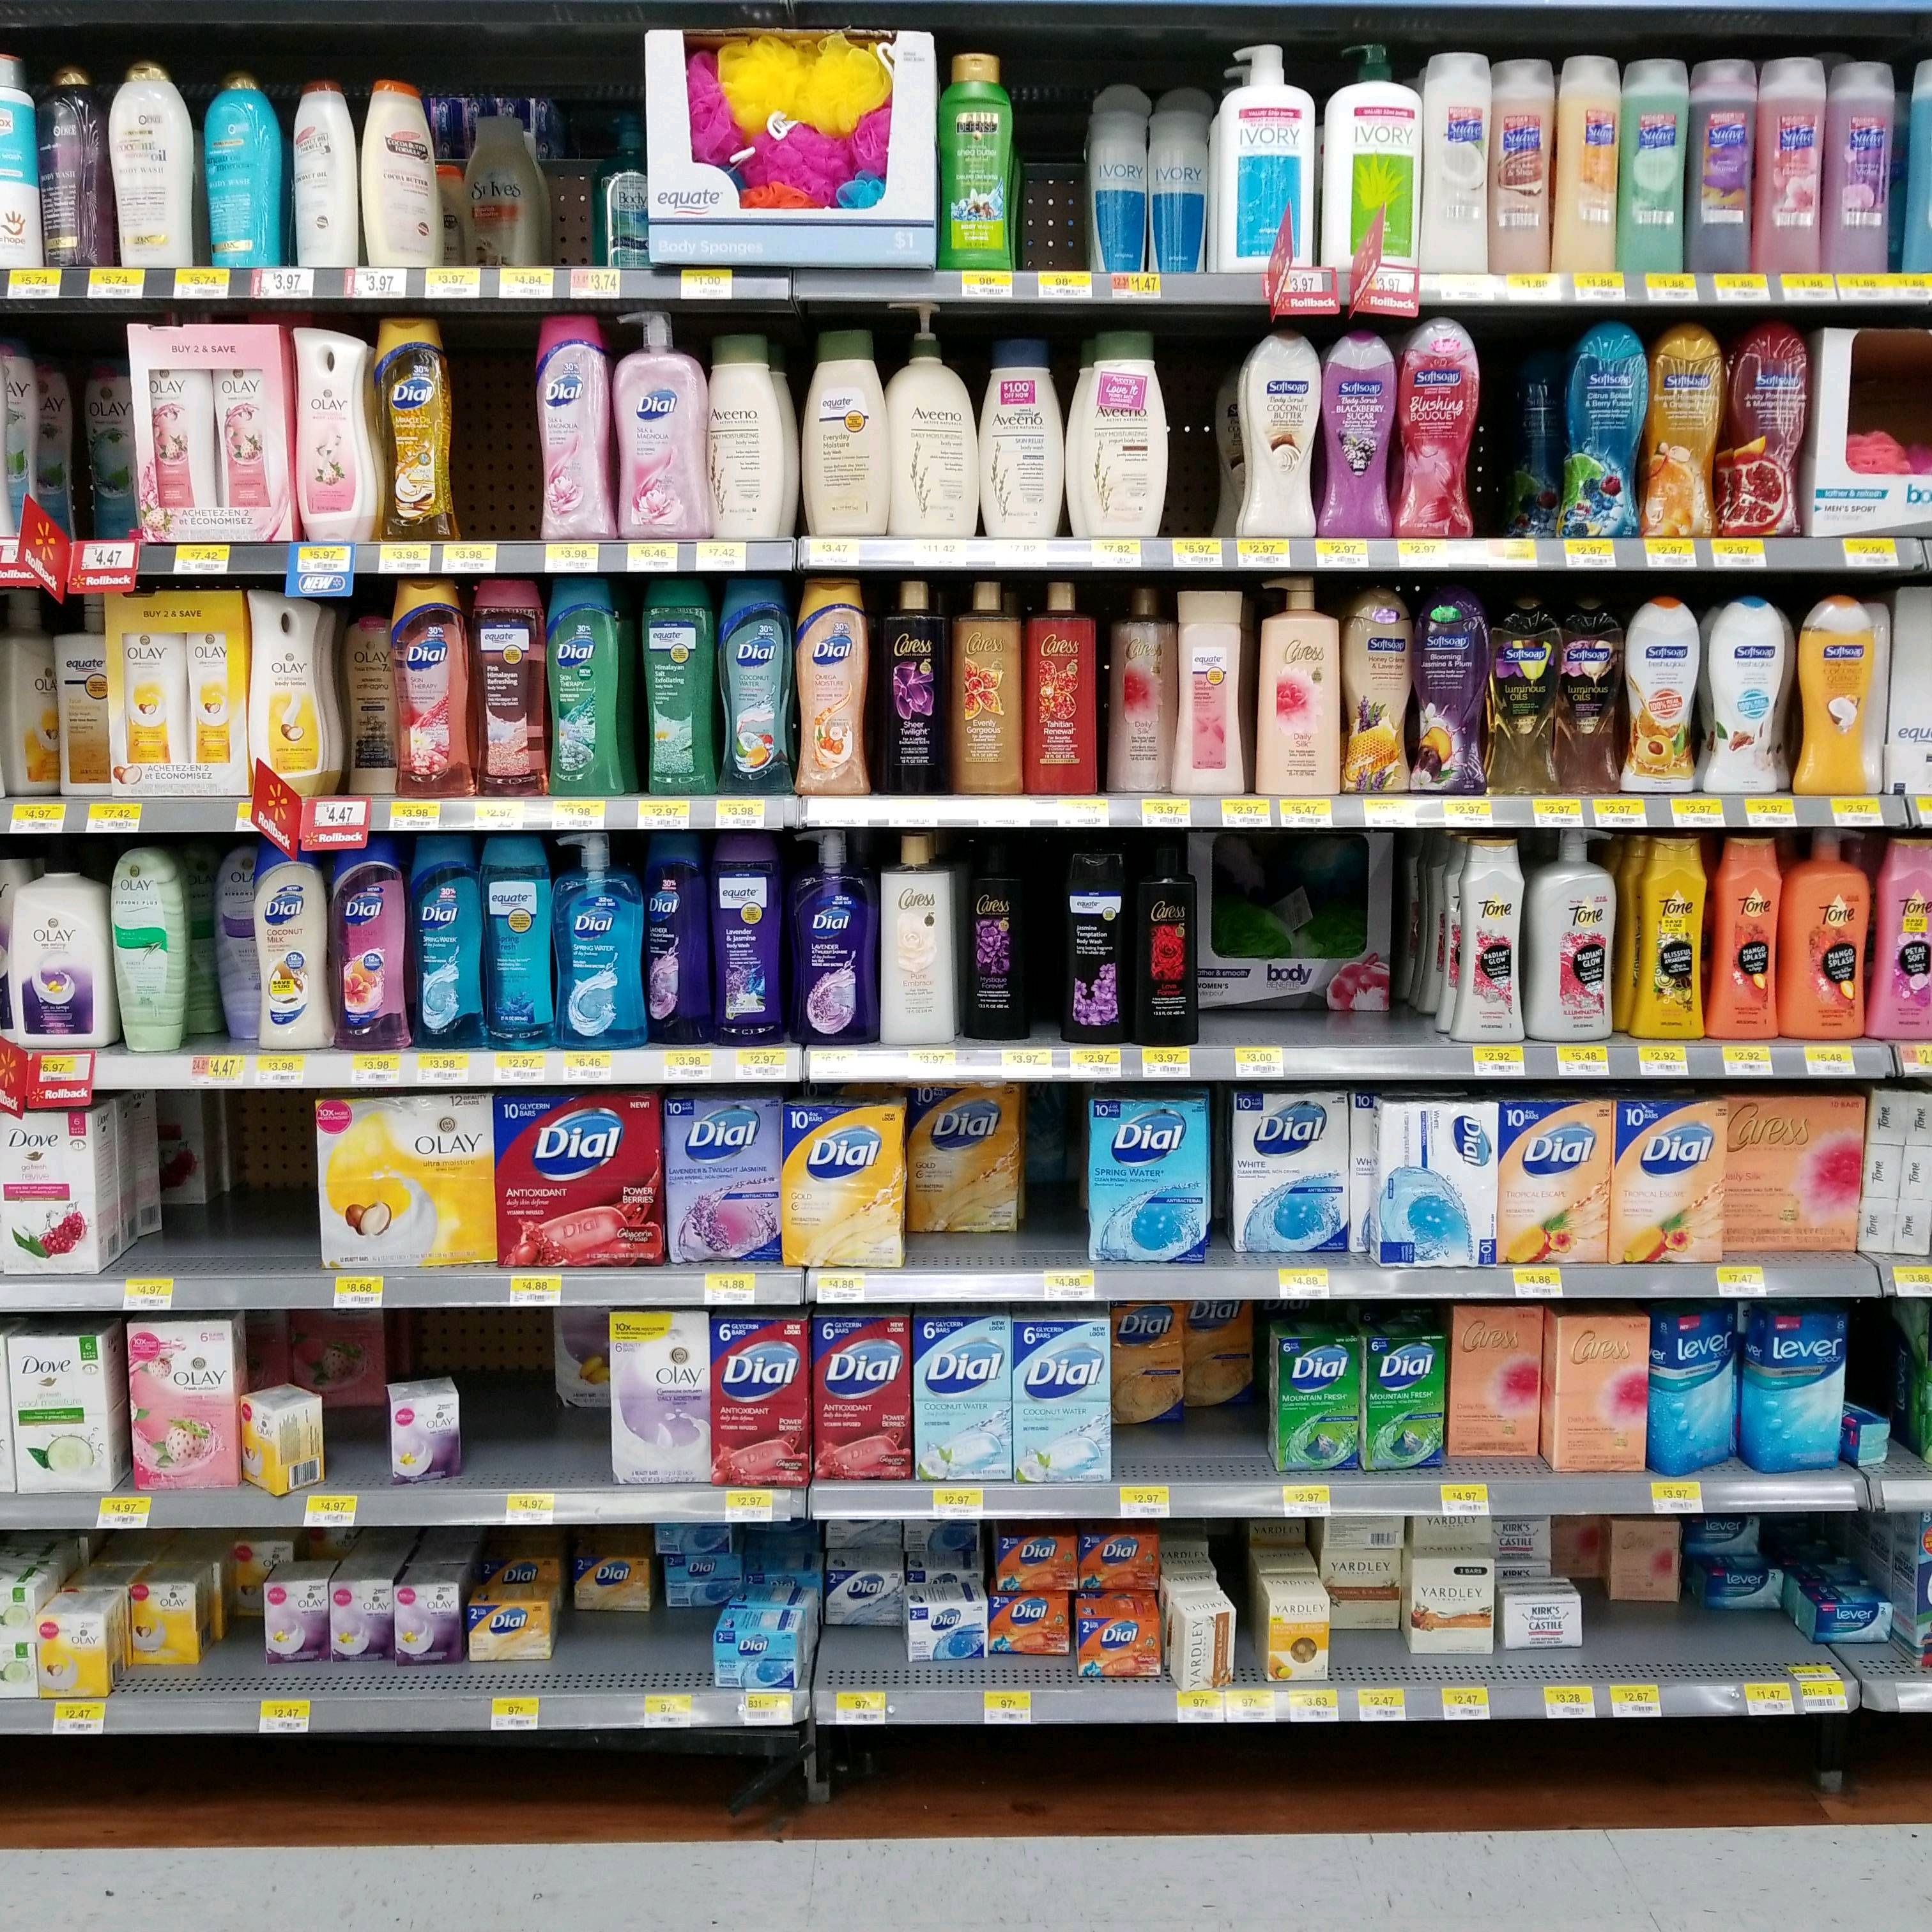Misplacement: (1111, 1302, 1270, 1483)
Out-of-stock: (453, 313, 536, 543)
